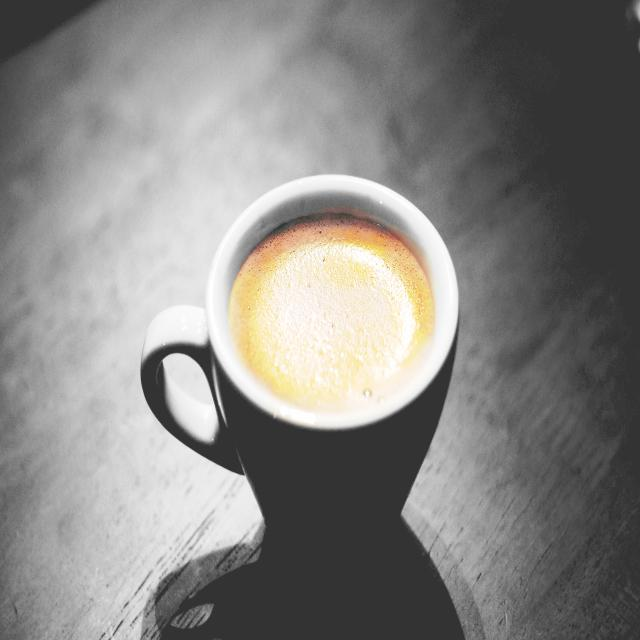drink: (138, 175, 460, 546)
